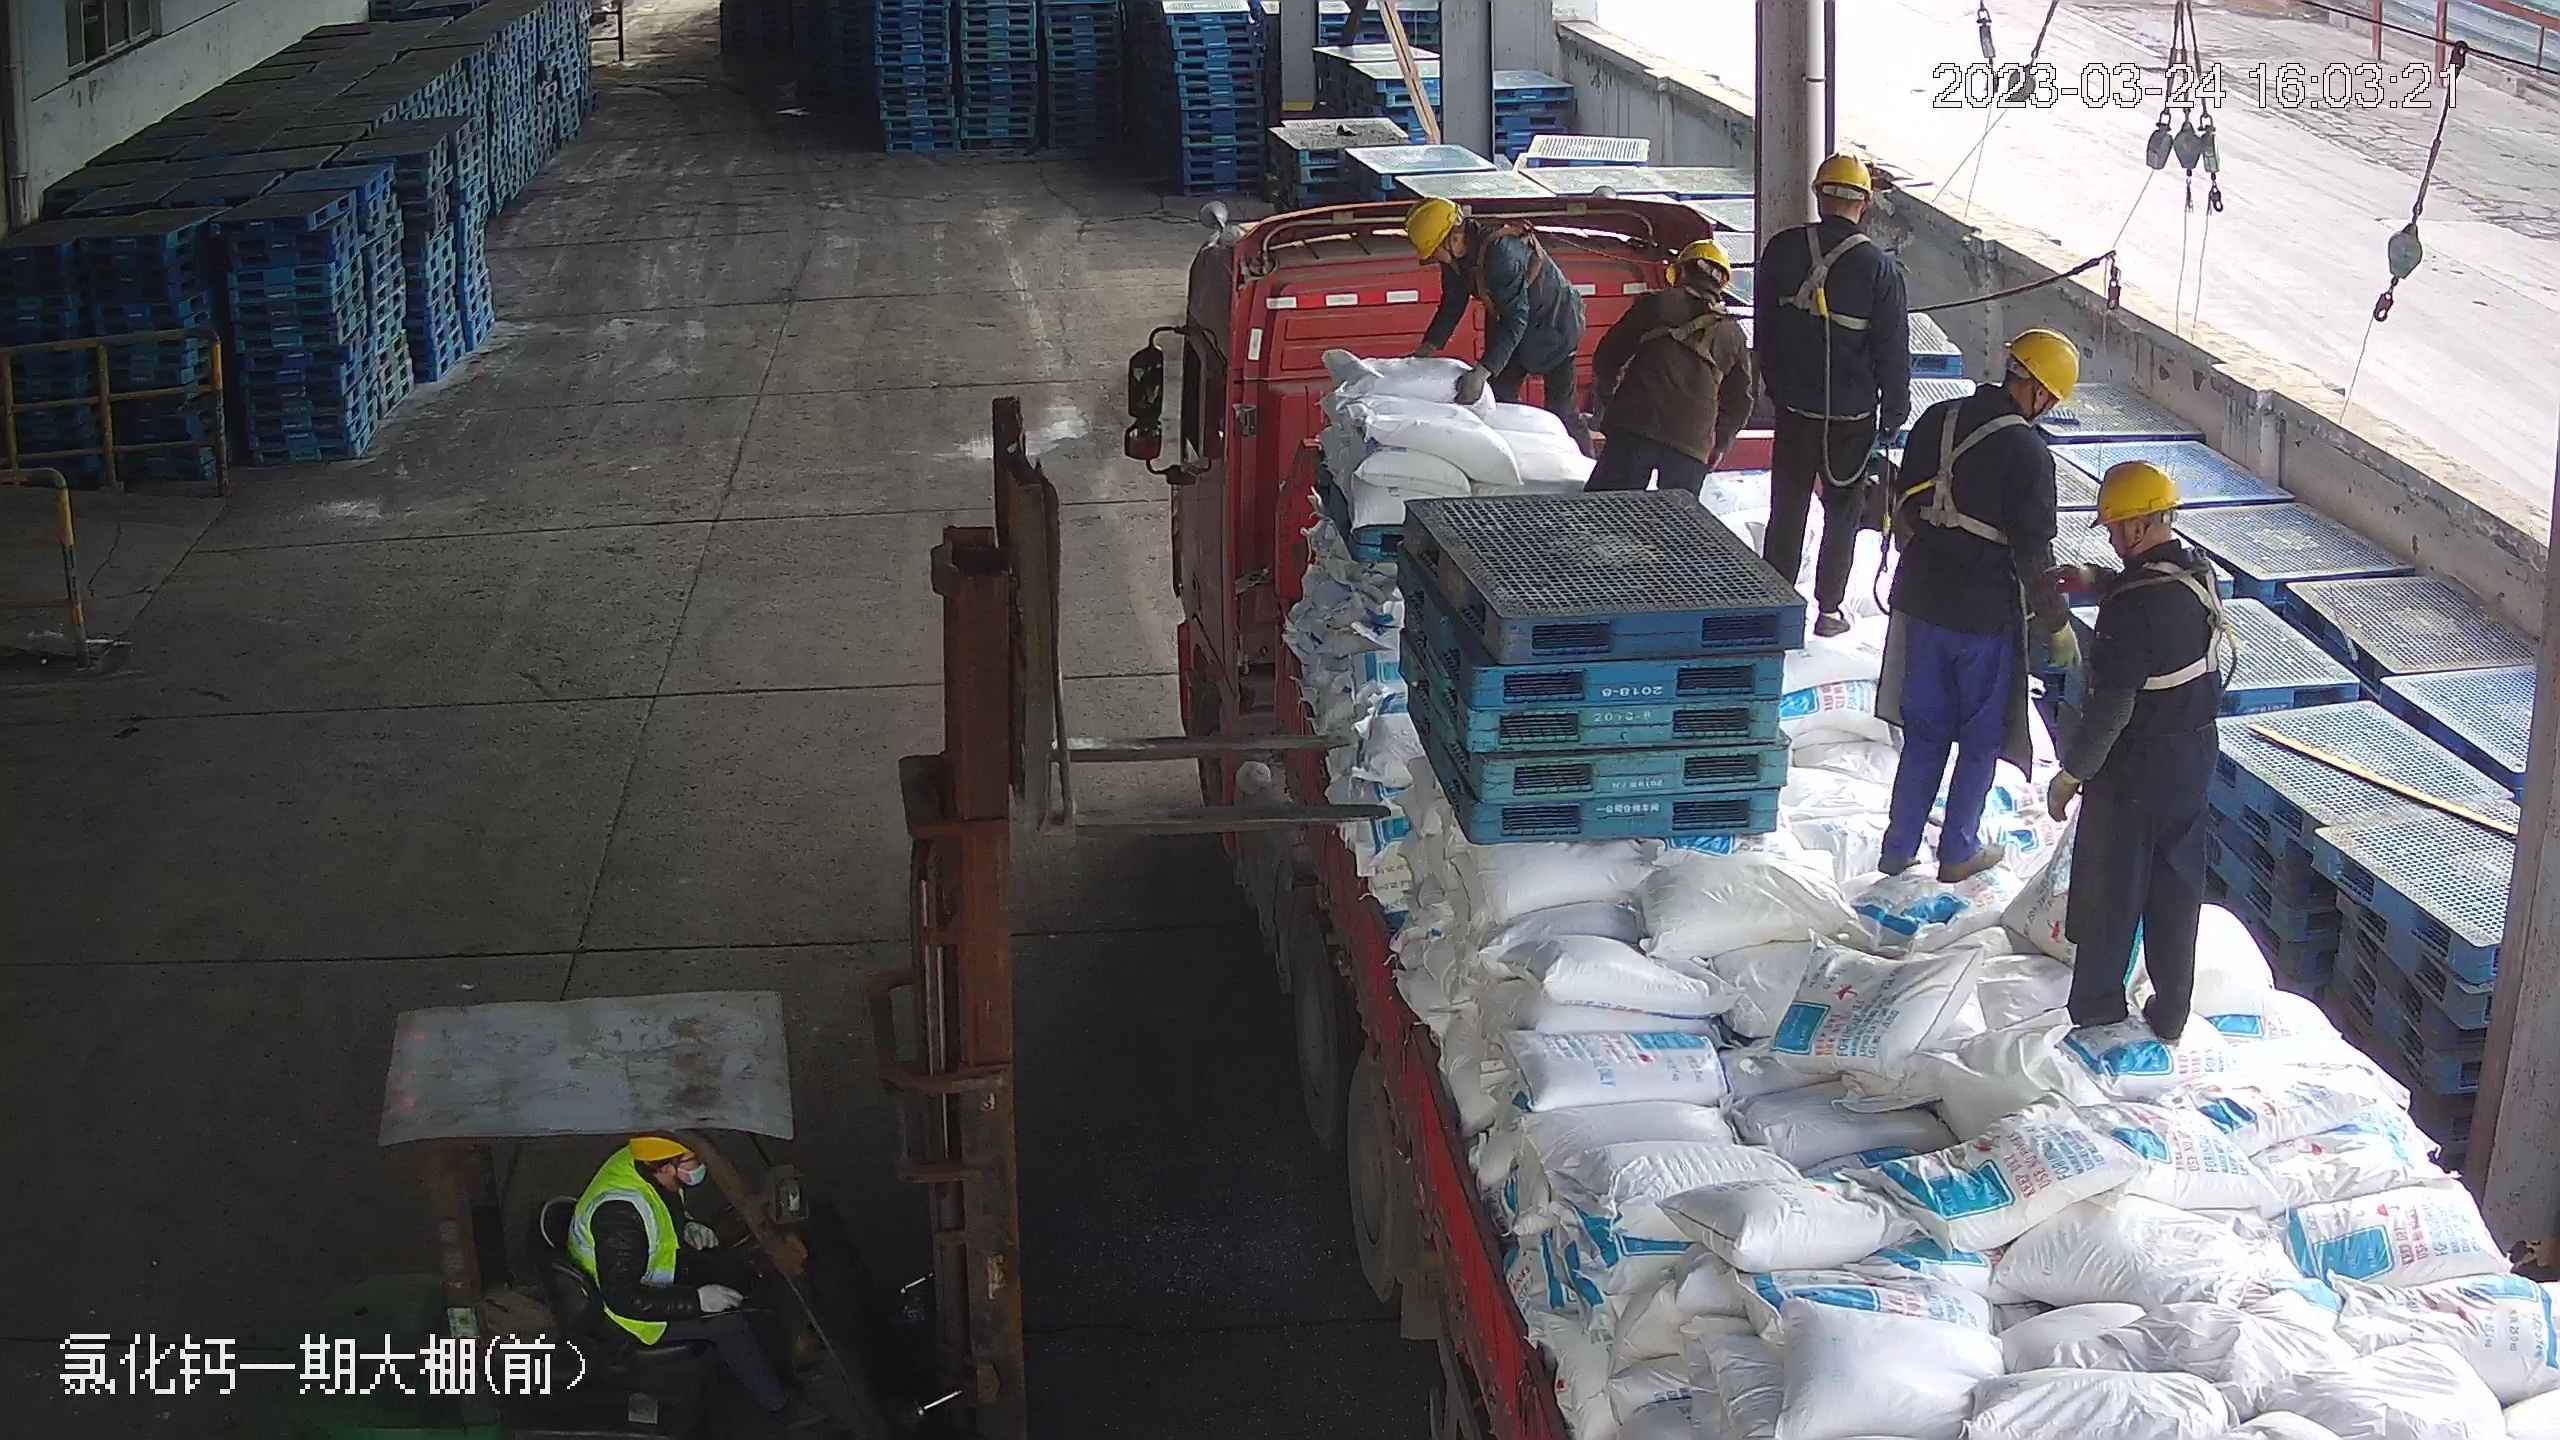belt: (1896, 397, 2035, 544), (2122, 548, 2236, 692), (1777, 223, 1884, 334), (1640, 281, 1733, 367), (1462, 220, 1549, 302)
head: (2063, 457, 2223, 625), (1905, 323, 2078, 472), (1757, 152, 1898, 279), (1618, 236, 1751, 342), (1407, 196, 1536, 291)
helmet: (2087, 456, 2182, 525), (2002, 322, 2077, 409), (1404, 196, 1463, 261), (1809, 151, 1876, 196), (1675, 236, 1732, 286)
people: (1860, 328, 2069, 888), (2034, 451, 2227, 1048), (563, 1124, 815, 1431), (1753, 151, 1913, 637), (1585, 233, 1758, 502), (1405, 198, 1586, 437)
truck: (1112, 148, 2509, 1440)
